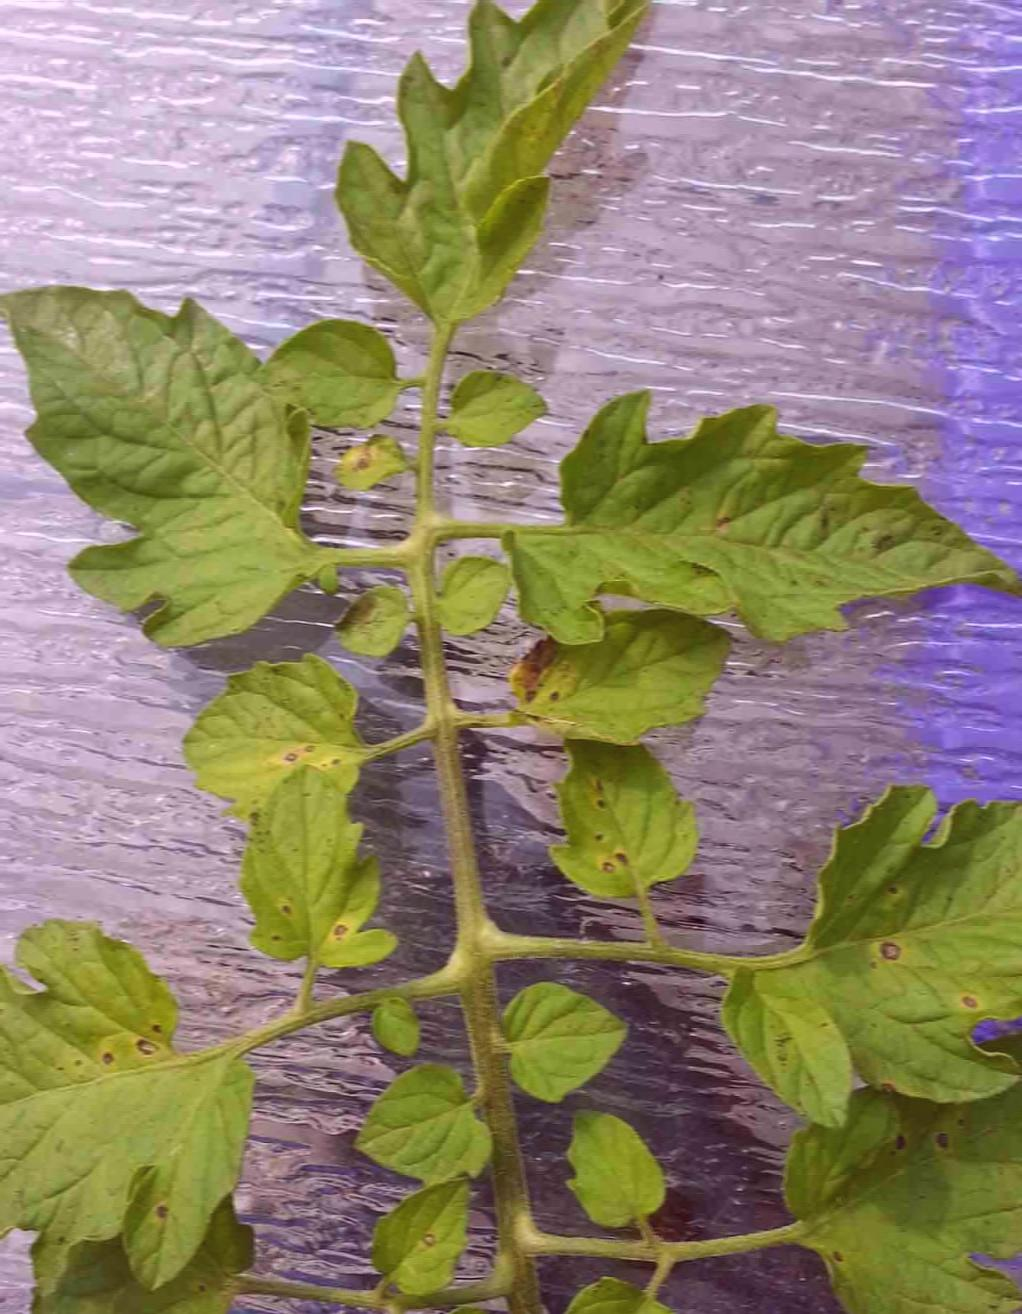Tomato Septoria leaf spot: (718, 769, 1022, 1145), (0, 928, 245, 1314), (183, 755, 408, 999), (179, 653, 387, 837), (531, 717, 705, 932), (488, 598, 736, 738)
